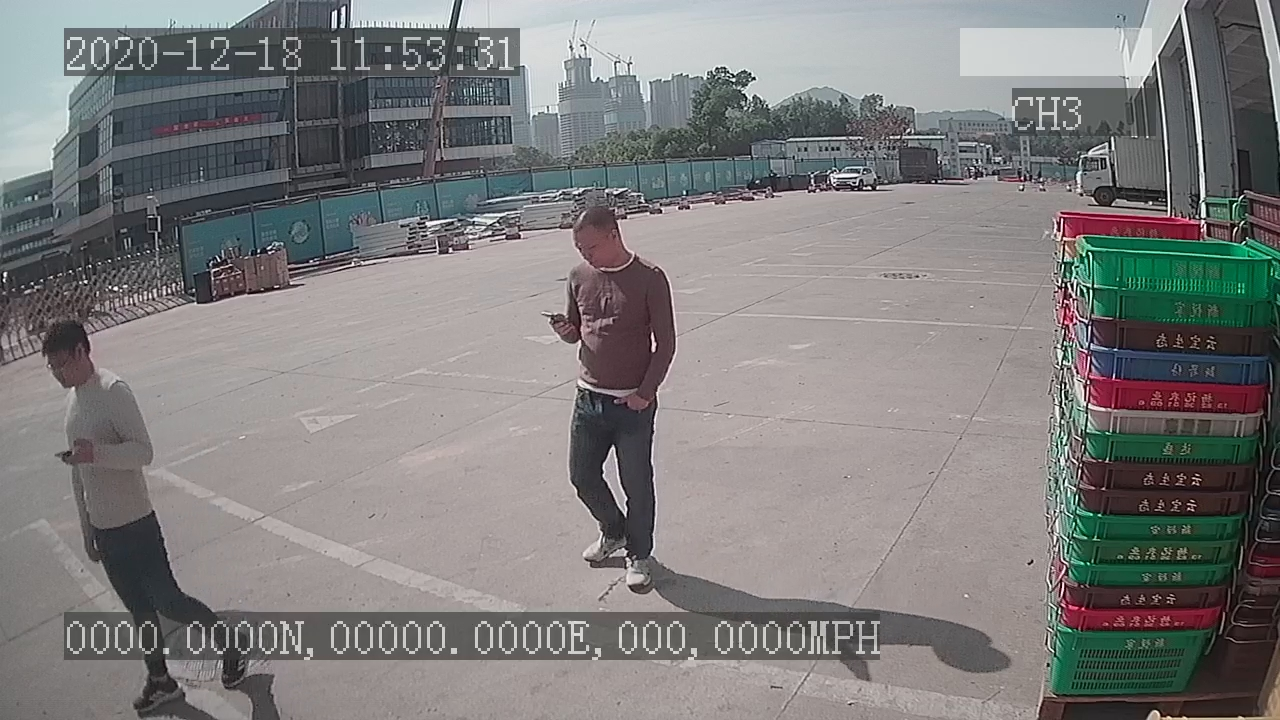person: (527, 201, 684, 594)
